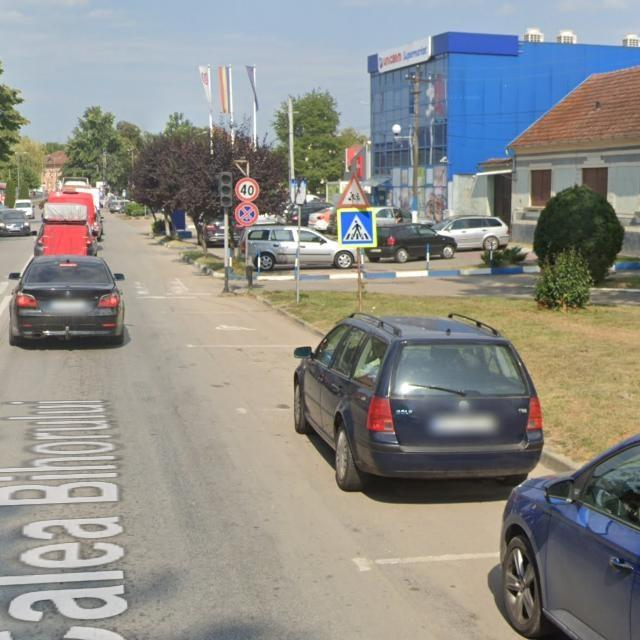forb_speed_over_40: (235, 178, 260, 202)
forb_waiting: (235, 202, 259, 226)
info_crosswalk: (338, 208, 377, 246)
